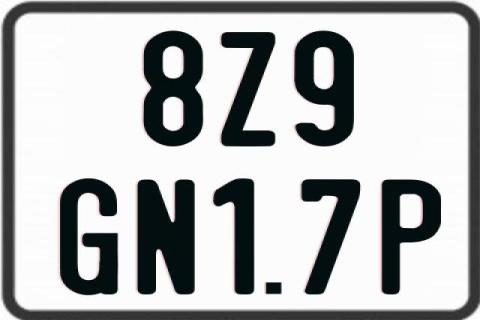0: (292, 29, 357, 149), (300, 177, 365, 293), (141, 29, 201, 148), (213, 178, 255, 294)
G: (59, 176, 118, 298)
N: (136, 180, 196, 300)
P: (380, 179, 444, 295)
Z: (218, 32, 275, 147)
